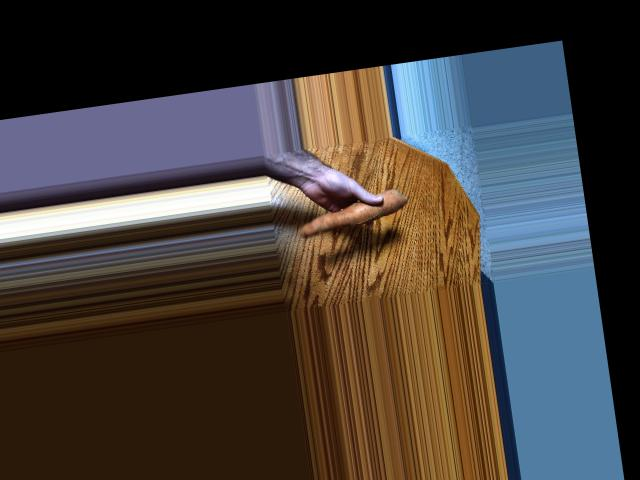sweet_potato: (297, 197, 407, 233)
